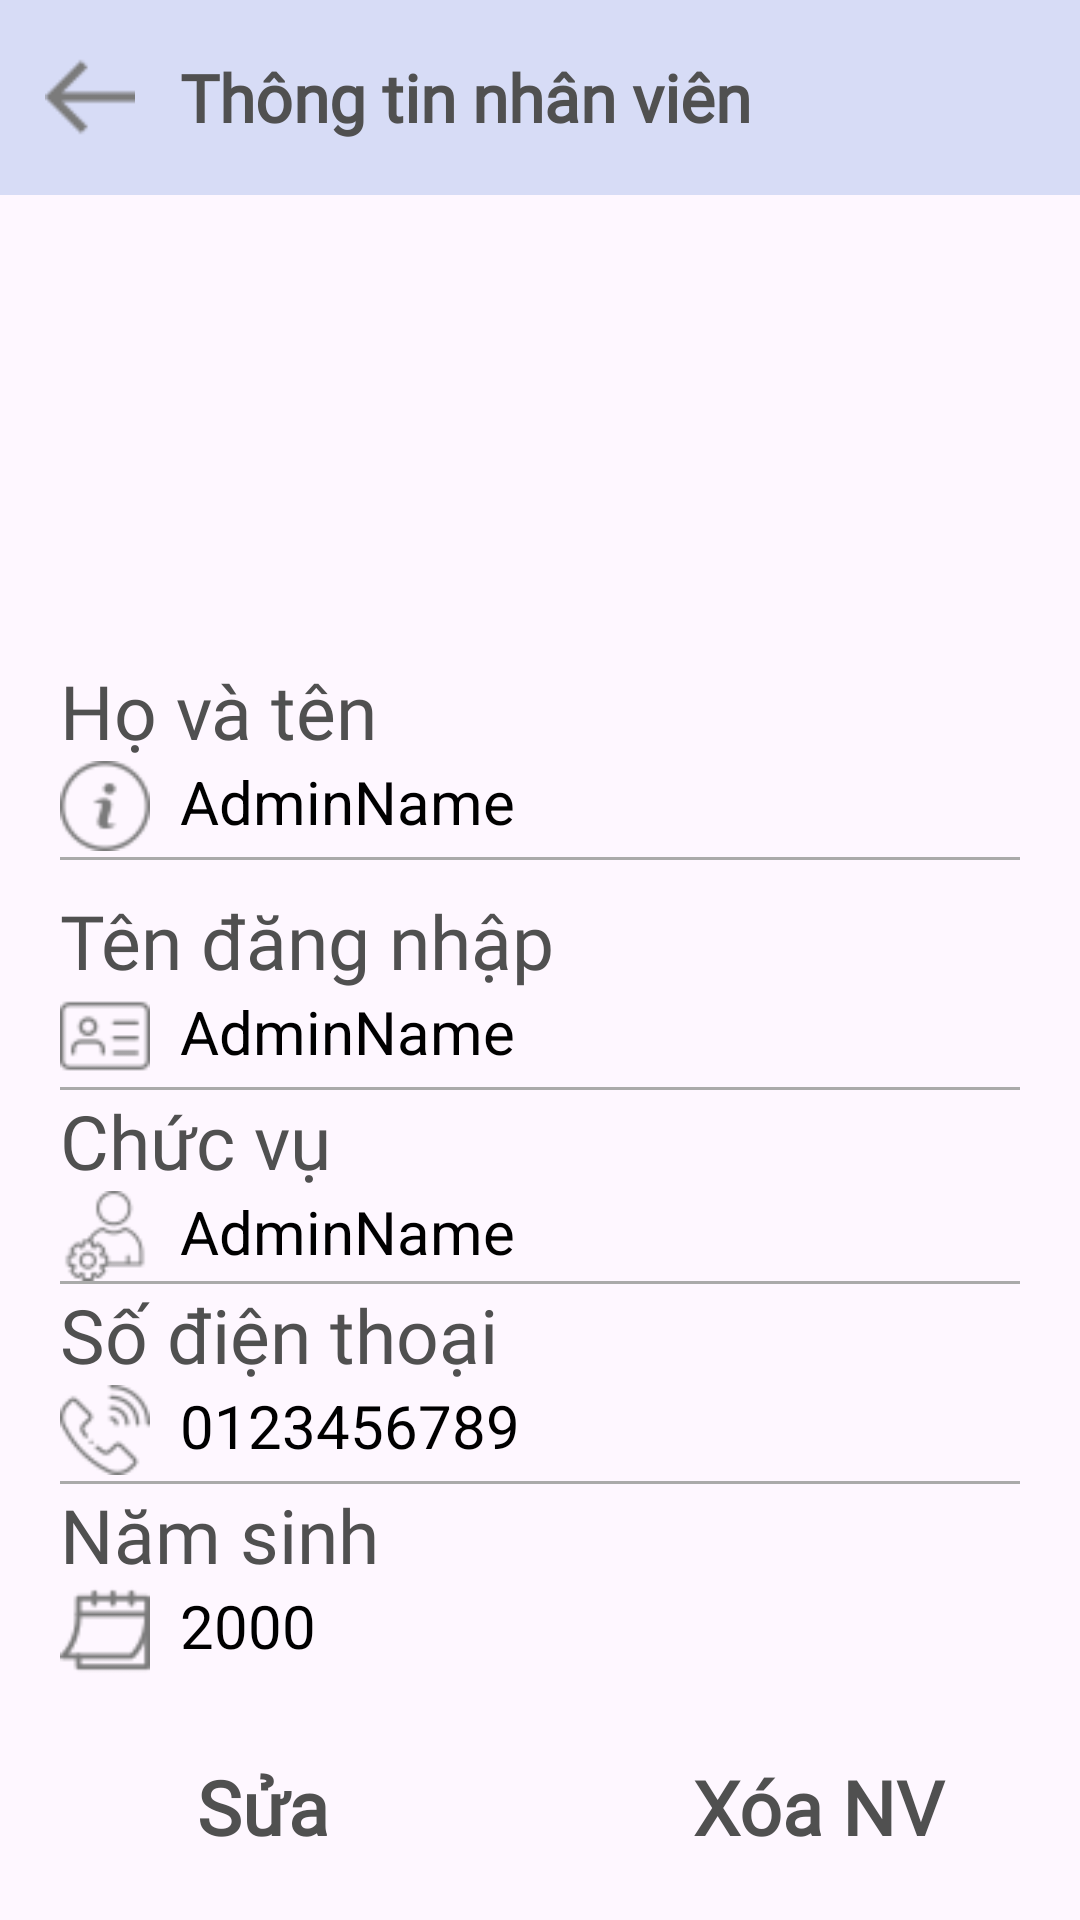

Point at icon controls on the screen. Image size 1080×1920, points as (x=x, y=y).
info: (x=105, y=806)
leftarrow: (x=90, y=97)
phone: (x=105, y=1430)
year: (x=105, y=1630)
